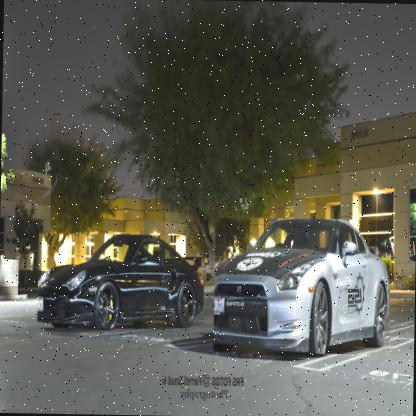Car: (212, 217, 390, 355), (36, 233, 204, 331)
